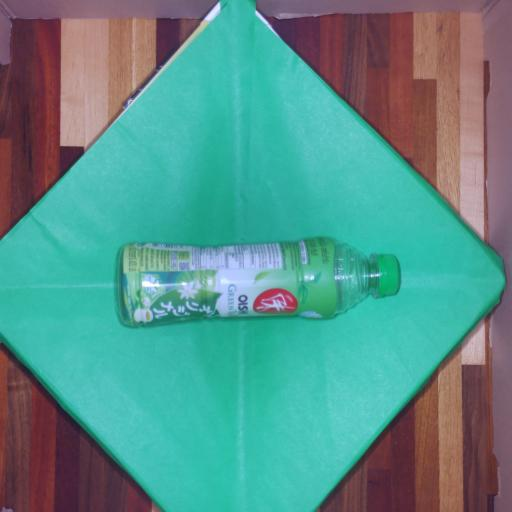bottle: (116, 238, 401, 330)
